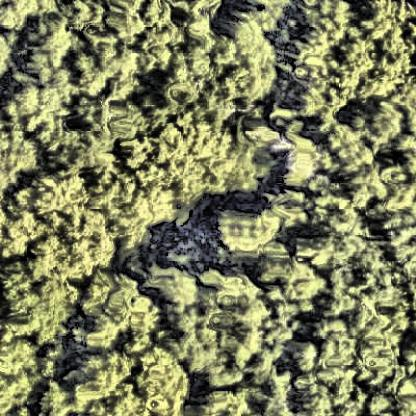tree-top: (160, 260, 256, 376), (293, 35, 413, 121), (17, 167, 111, 274), (129, 121, 232, 207), (316, 231, 407, 310), (75, 275, 157, 356), (13, 75, 85, 156), (5, 263, 78, 342), (253, 259, 321, 338), (219, 21, 280, 105), (210, 200, 288, 262), (146, 46, 210, 114), (64, 349, 132, 412), (132, 348, 195, 412), (343, 164, 416, 219), (0, 326, 43, 414), (77, 43, 139, 104), (108, 176, 162, 244), (287, 374, 367, 416), (20, 12, 76, 66), (1, 118, 45, 184), (312, 318, 360, 371), (324, 113, 373, 163), (189, 384, 265, 416), (281, 133, 326, 185), (357, 100, 405, 148), (303, 0, 352, 46), (102, 0, 150, 45), (360, 0, 408, 38), (257, 374, 298, 414), (290, 338, 322, 376), (0, 0, 40, 27), (0, 26, 18, 74), (402, 332, 416, 378), (364, 393, 392, 416)
